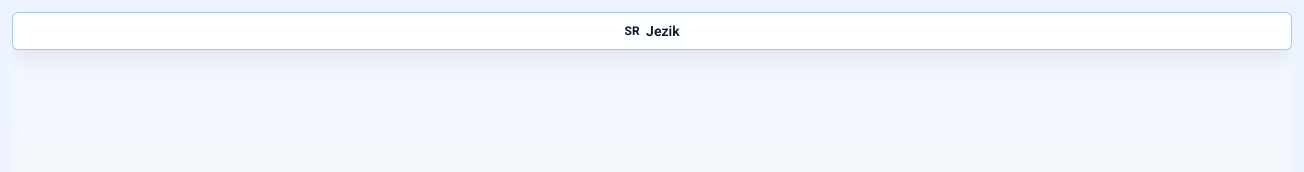
Test case: LanguageSwitcher › cycles from sr to null on click
Click the button. click: (652, 31)
box: x1=12 y1=12 x2=1292 y2=50
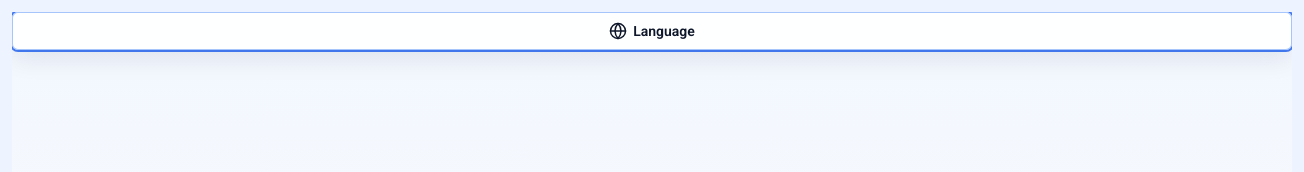
Check: the button with aria-label "Language: System" is shown, box x1=12 y1=12 x2=1292 y2=50
